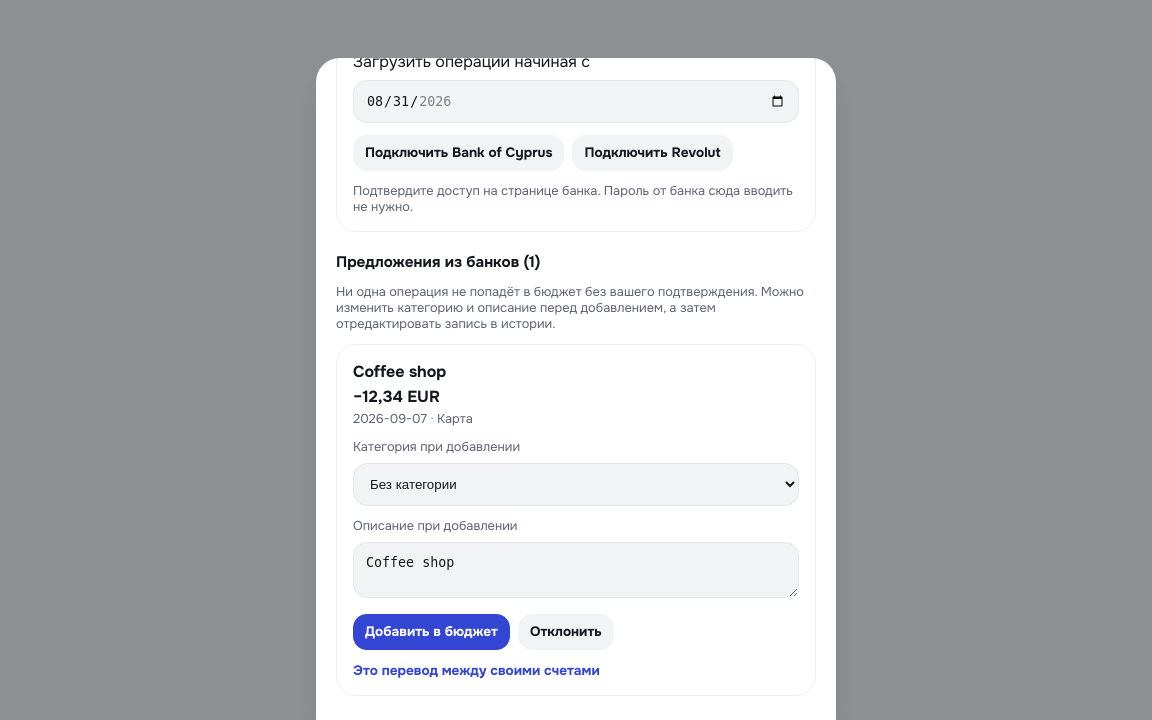
Scenario: BankingSheet proposals › prevents duplicate decisions and keeps edits when a stale version is rejected
Later steps or results of the test are not shown.
(page scrolled)
Step 1. Replace the text in the text box named "Описание: Coffee shop" with "Моё описание" → (576, 570), box [353,542,799,598]
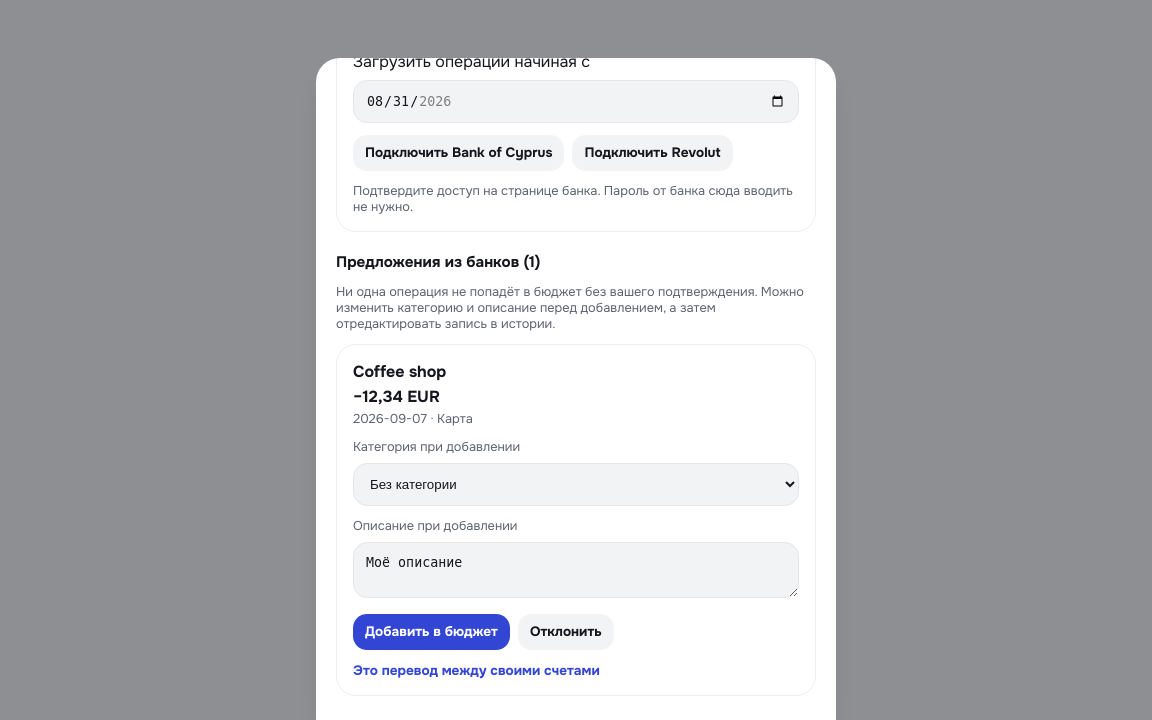
Step 2. Click the button "Добавить в бюджет" → (431, 632), box [353,614,510,650]
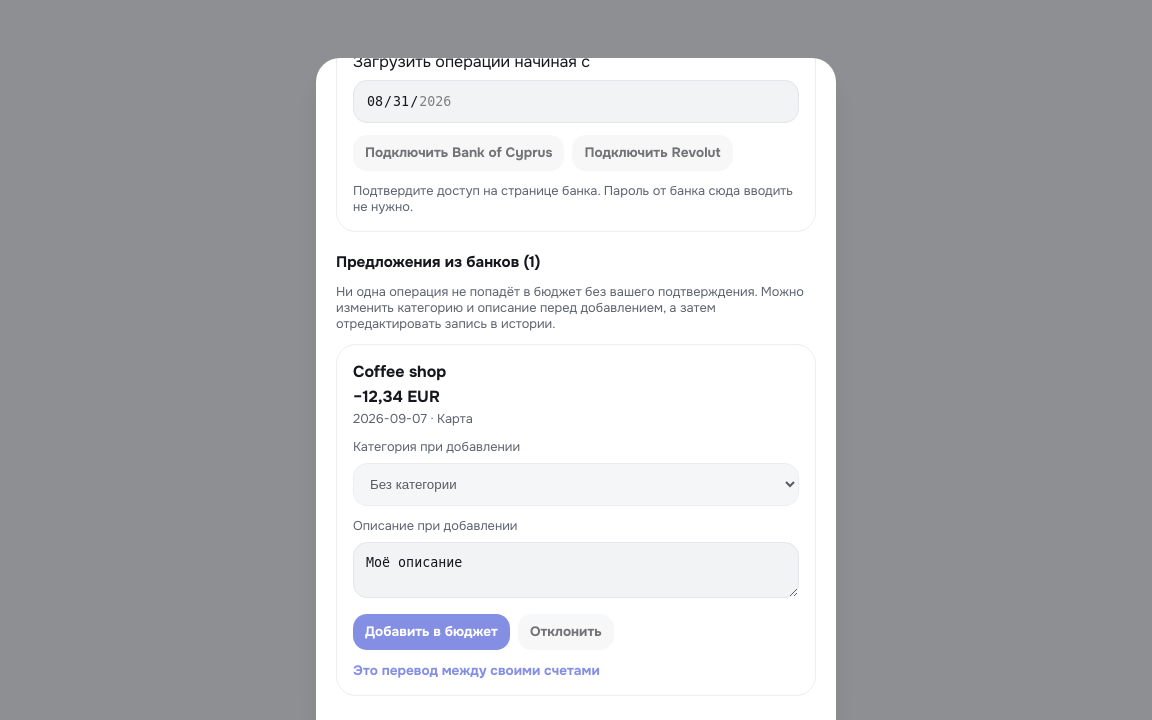
Step 3. Click the button "Добавить в бюджет" → (431, 632), box [353,614,510,650]
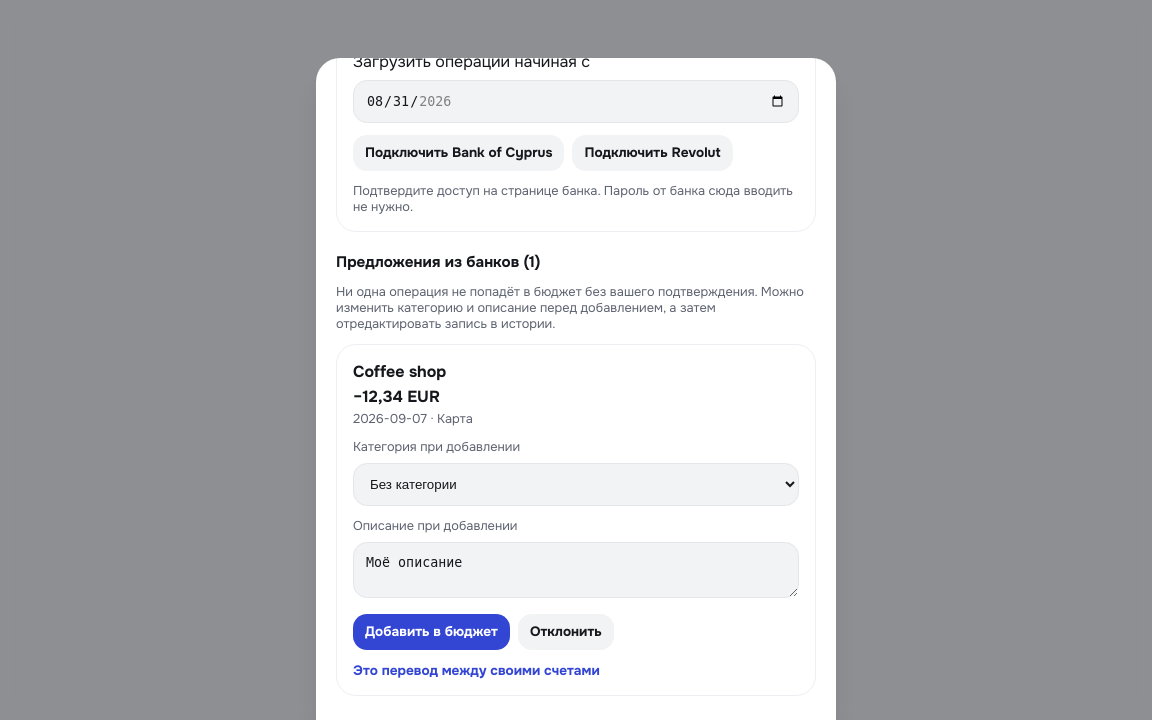
Check: the button "Добавить в бюджет" is enabled, box [353,614,510,650]
